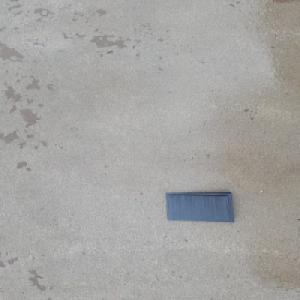PlasticPart: (164, 191, 236, 223)
